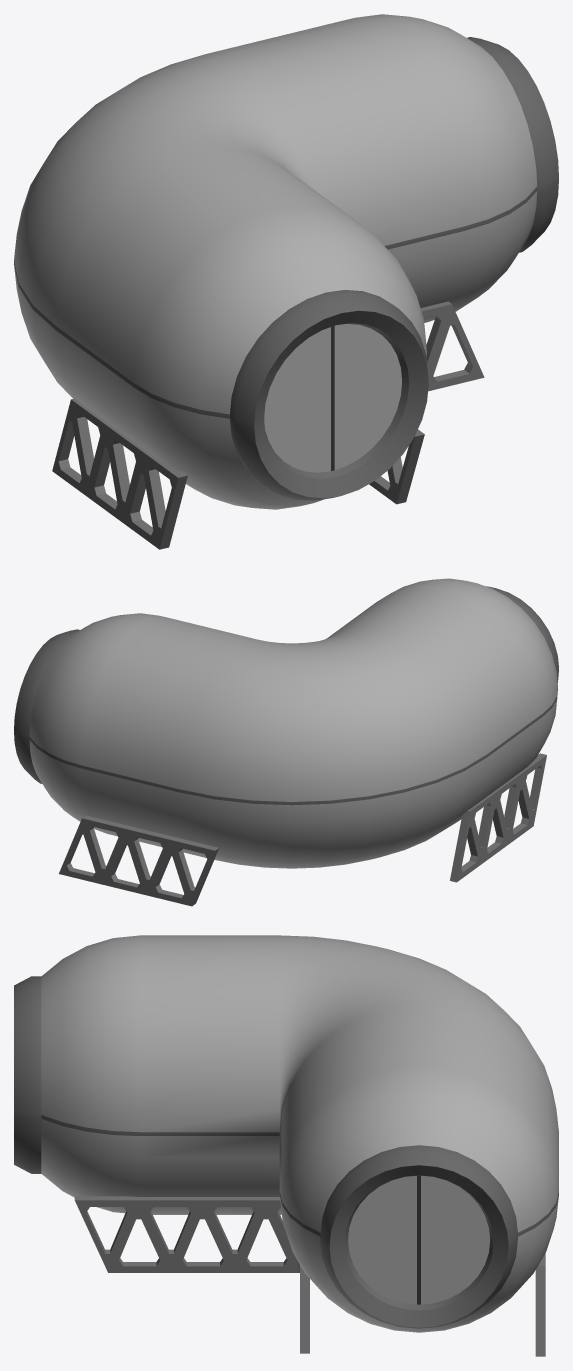
The model's file is Building L.glb.
The picture shows the model from 3 angles, top to bottom: view 1: azimuth 30°, elevation 25°; view 2: azimuth 150°, elevation 25°; view 3: azimuth 270°, elevation 25°; orthographic projection. The views are drawn at different scales.
Parts seen in each view (by area): view 1: Building_L; view 2: Building_L; view 3: Building_L.
Boxes of the visible parts, box(x1,y1,x2,y2) form: Building_L: box(14, 14, 558, 549); Building_L: box(14, 578, 558, 906); Building_L: box(14, 935, 558, 1356).
Size of the model in its own units: 7.8 by 4.31 by 7.79.
Materials: 1 (1 with a texture image).
